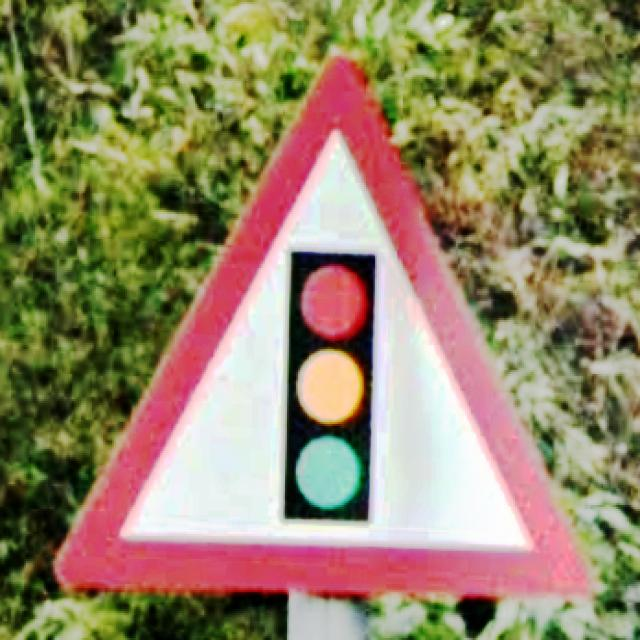signalahead: (53, 52, 592, 600)
